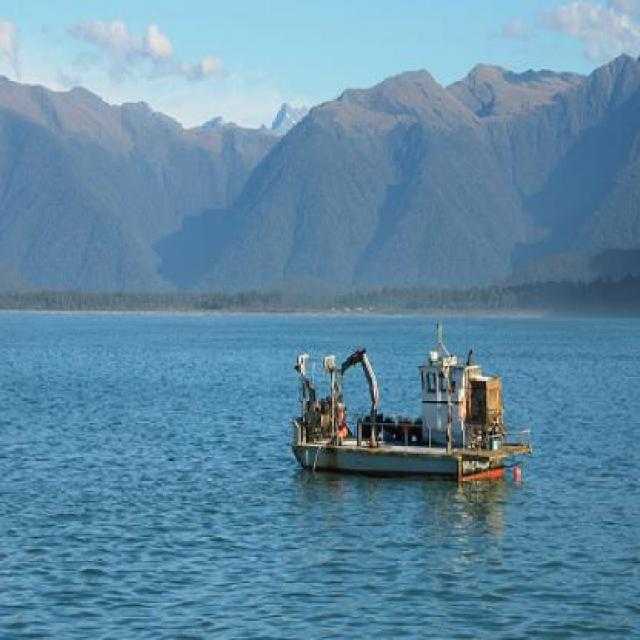ship: (286, 338, 536, 485)
